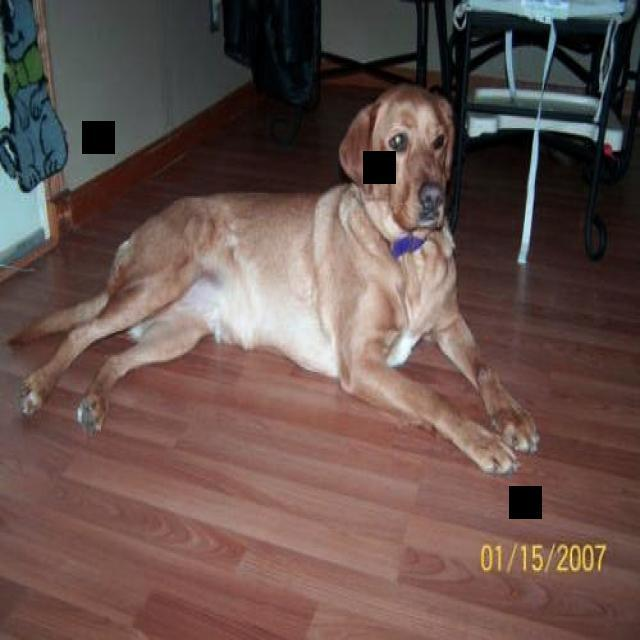adult_dog: (9, 78, 540, 479)
